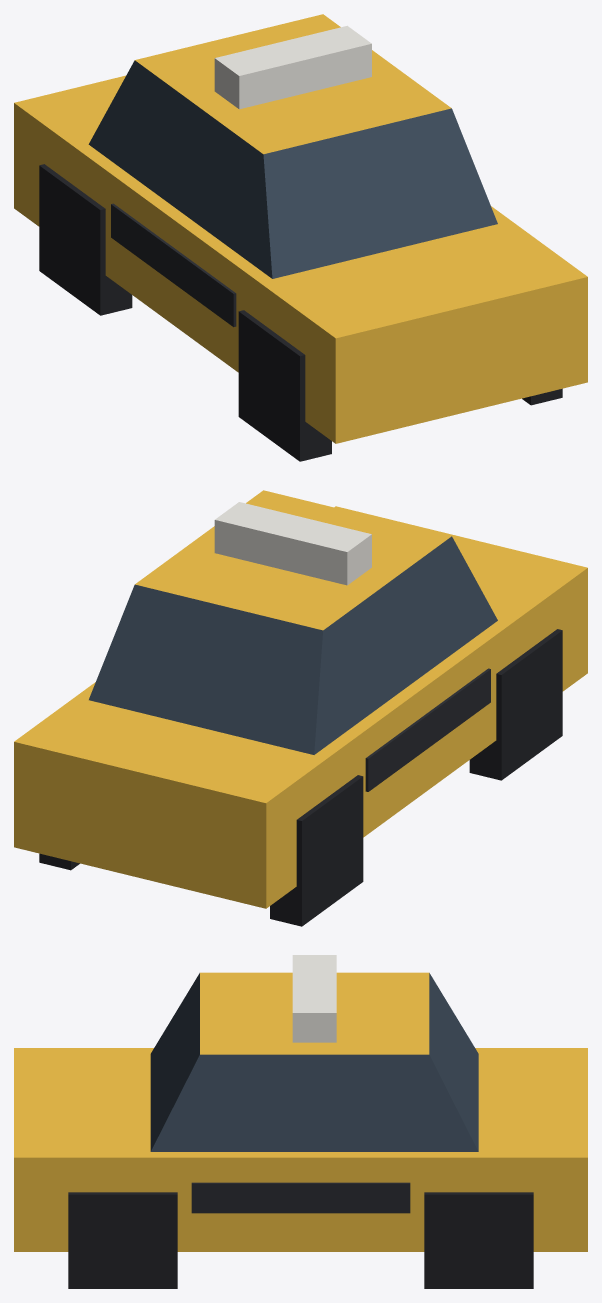
File: V_Taxi.fbx
The picture shows the model from 3 angles, top to bottom: view 1: azimuth 30°, elevation 25°; view 2: azimuth 150°, elevation 25°; view 3: azimuth 270°, elevation 25°; orthographic projection. The views are drawn at different scales.
Parts seen in each view (by area): view 1: V_Taxi.002; view 2: V_Taxi.002; view 3: V_Taxi.002.
Part boxes in pixels (left/top/right/bottom): V_Taxi.002: left=14, top=14, right=587, bottom=461; V_Taxi.002: left=14, top=490, right=587, bottom=926; V_Taxi.002: left=14, top=955, right=587, bottom=1288.
Size of the model in its own units: 0.99 by 1 by 2.1.
